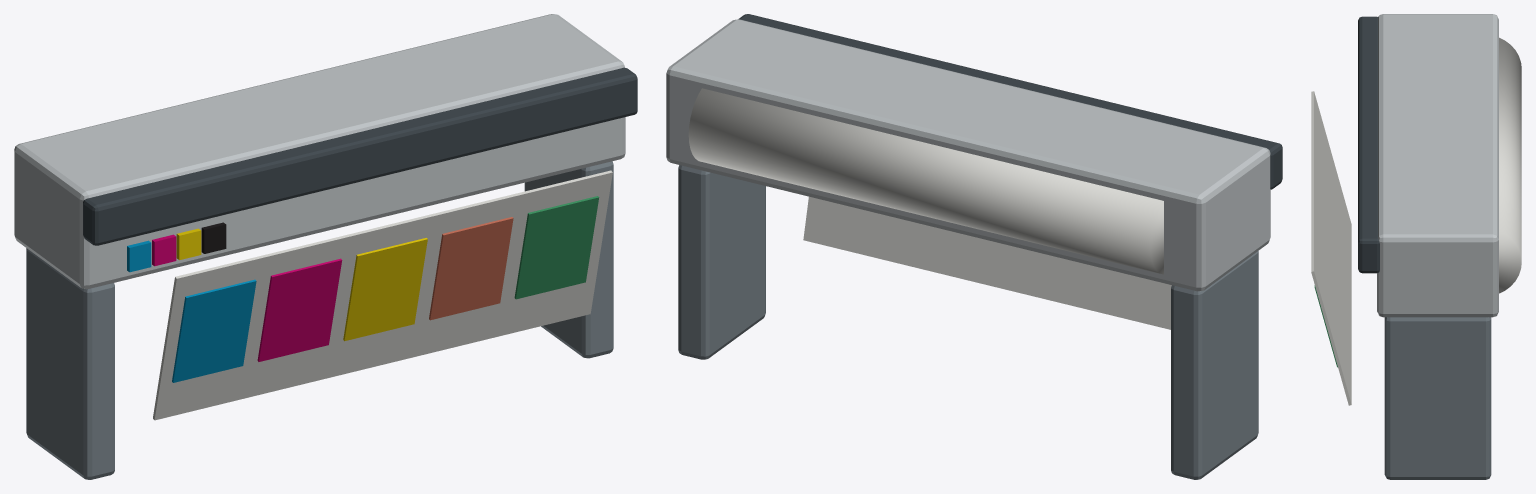
File: m_widejet.glb
The picture shows the model from 3 angles, left to right: view 1: azimuth 30°, elevation 25°; view 2: azimuth 150°, elevation 25°; view 3: azimuth 270°, elevation 25°; orthographic projection. The views are drawn at different scales.
Parts seen in each view (by area): view 1: m_widejet; view 2: m_widejet; view 3: m_widejet.
Boxes of the visible parts, x1,y1,x2,y2 form: m_widejet: [14, 14, 637, 479]; m_widejet: [666, 14, 1282, 479]; m_widejet: [1311, 14, 1521, 479].
Size of the model in its own units: 0.7 by 0.365 by 0.2767.
